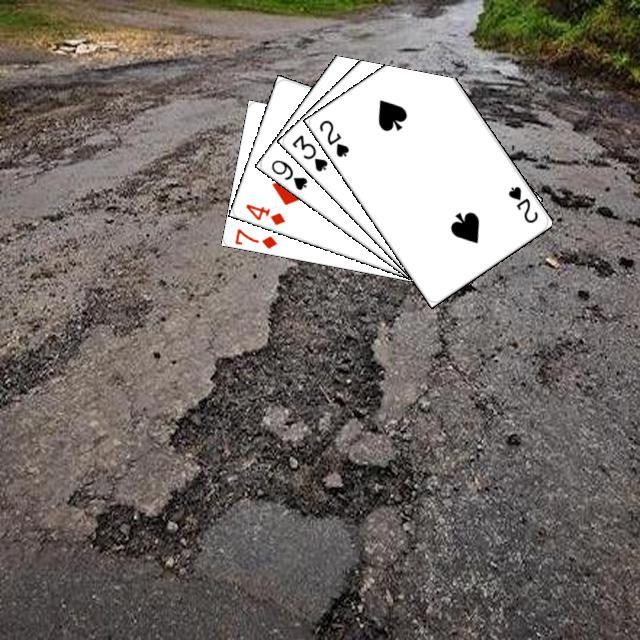2s: (314, 115, 351, 159), (503, 181, 540, 225)
3s: (287, 130, 329, 173)
4d: (241, 199, 287, 227)
7d: (230, 224, 279, 250)
9s: (266, 155, 309, 192)
